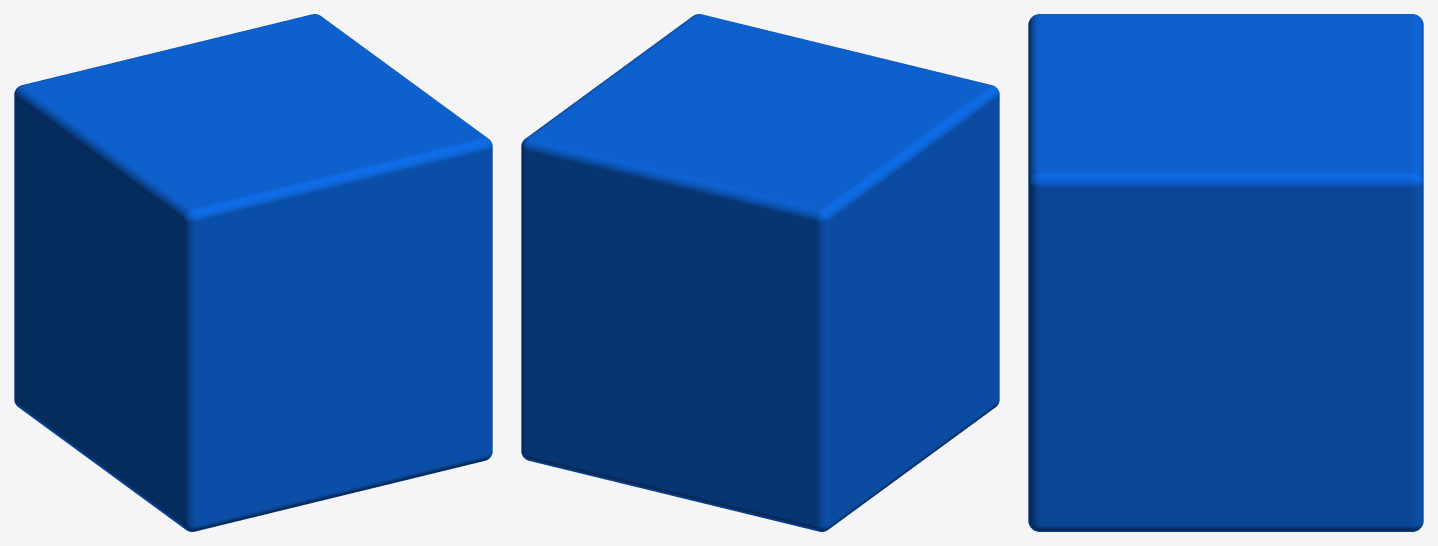
Rendered from baseCubeBlockMRound.glb.
The picture shows the model from 3 angles, left to right: view 1: azimuth 30°, elevation 25°; view 2: azimuth 150°, elevation 25°; view 3: azimuth 270°, elevation 25°; orthographic projection. The views are drawn at different scales.
Visible parts, largest first — view 1: Cube; view 2: Cube; view 3: Cube.
Boxes of the visible parts, x1=… form: Cube: x1=14, y1=14, x2=492, y2=531; Cube: x1=521, y1=14, x2=999, y2=531; Cube: x1=1028, y1=14, x2=1423, y2=531.
Size of the model in its own units: 2 by 2 by 2.
